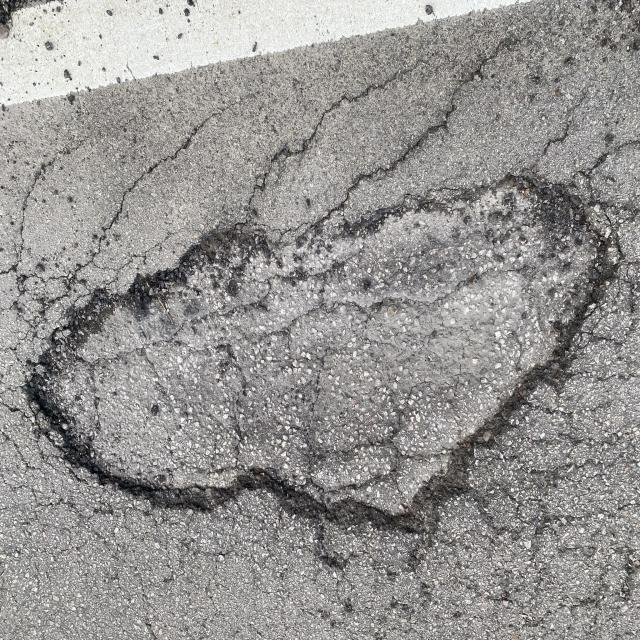Pothole: (13, 149, 634, 571)
